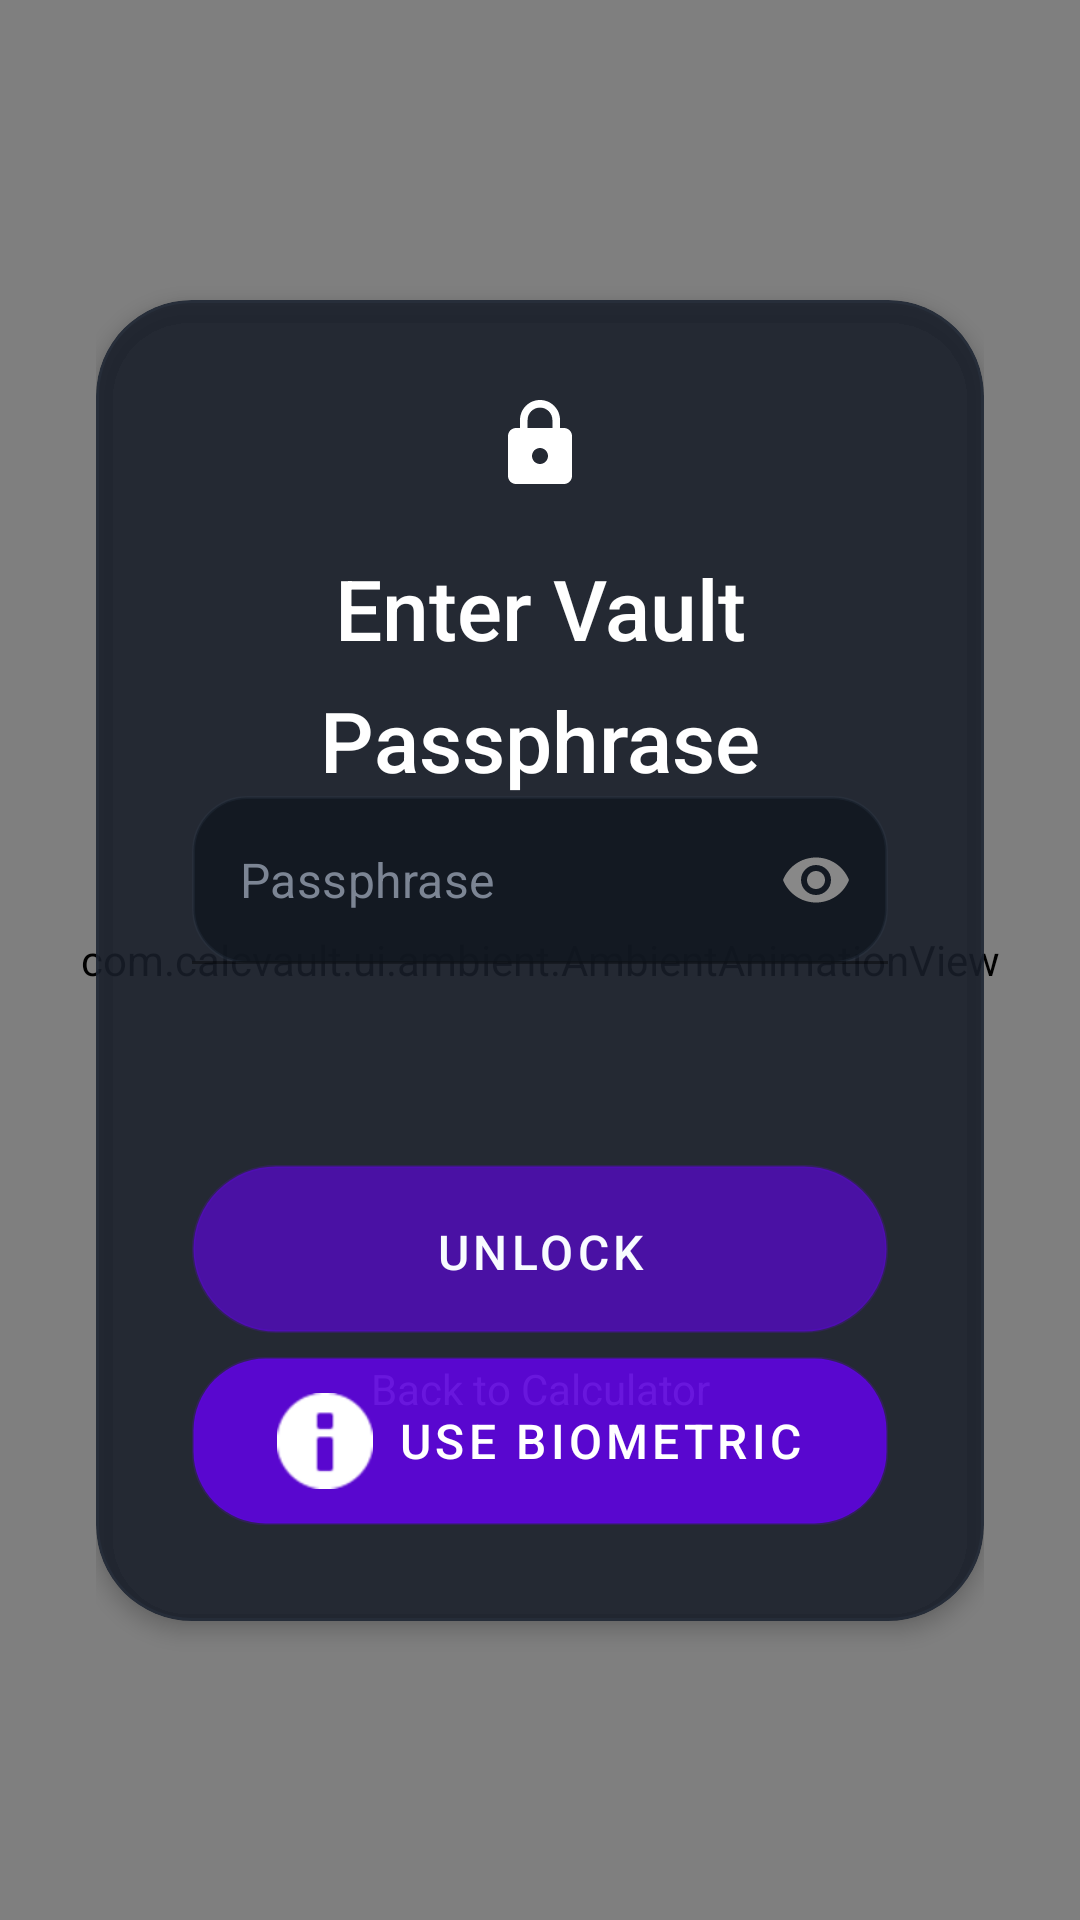

Screen size 1080x1920. Icon name, then its center in pixels as (x=x, y=y):
Lock Icon: (x=540, y=442)
